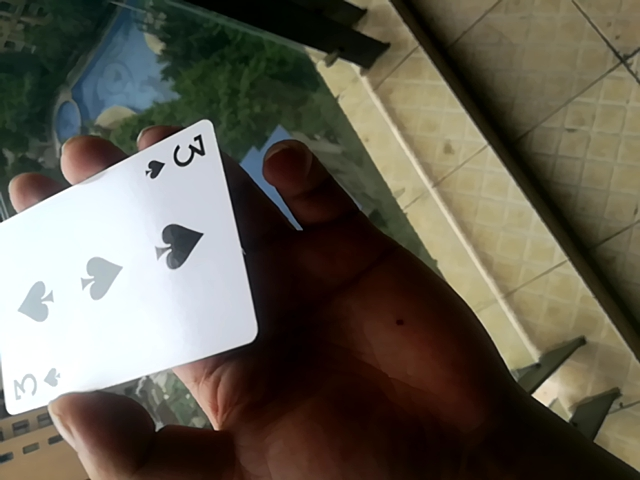ht 3: (0, 116, 263, 421)
